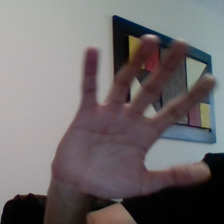left: (32, 18, 216, 197)
